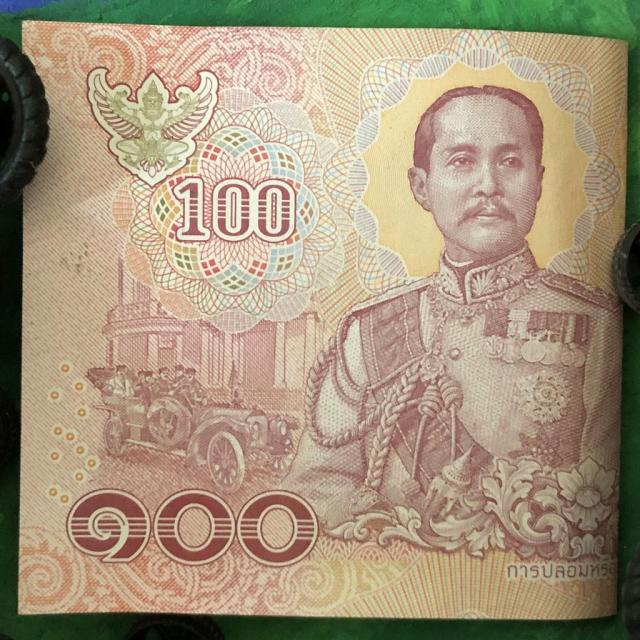THAI100: (18, 22, 629, 625)
